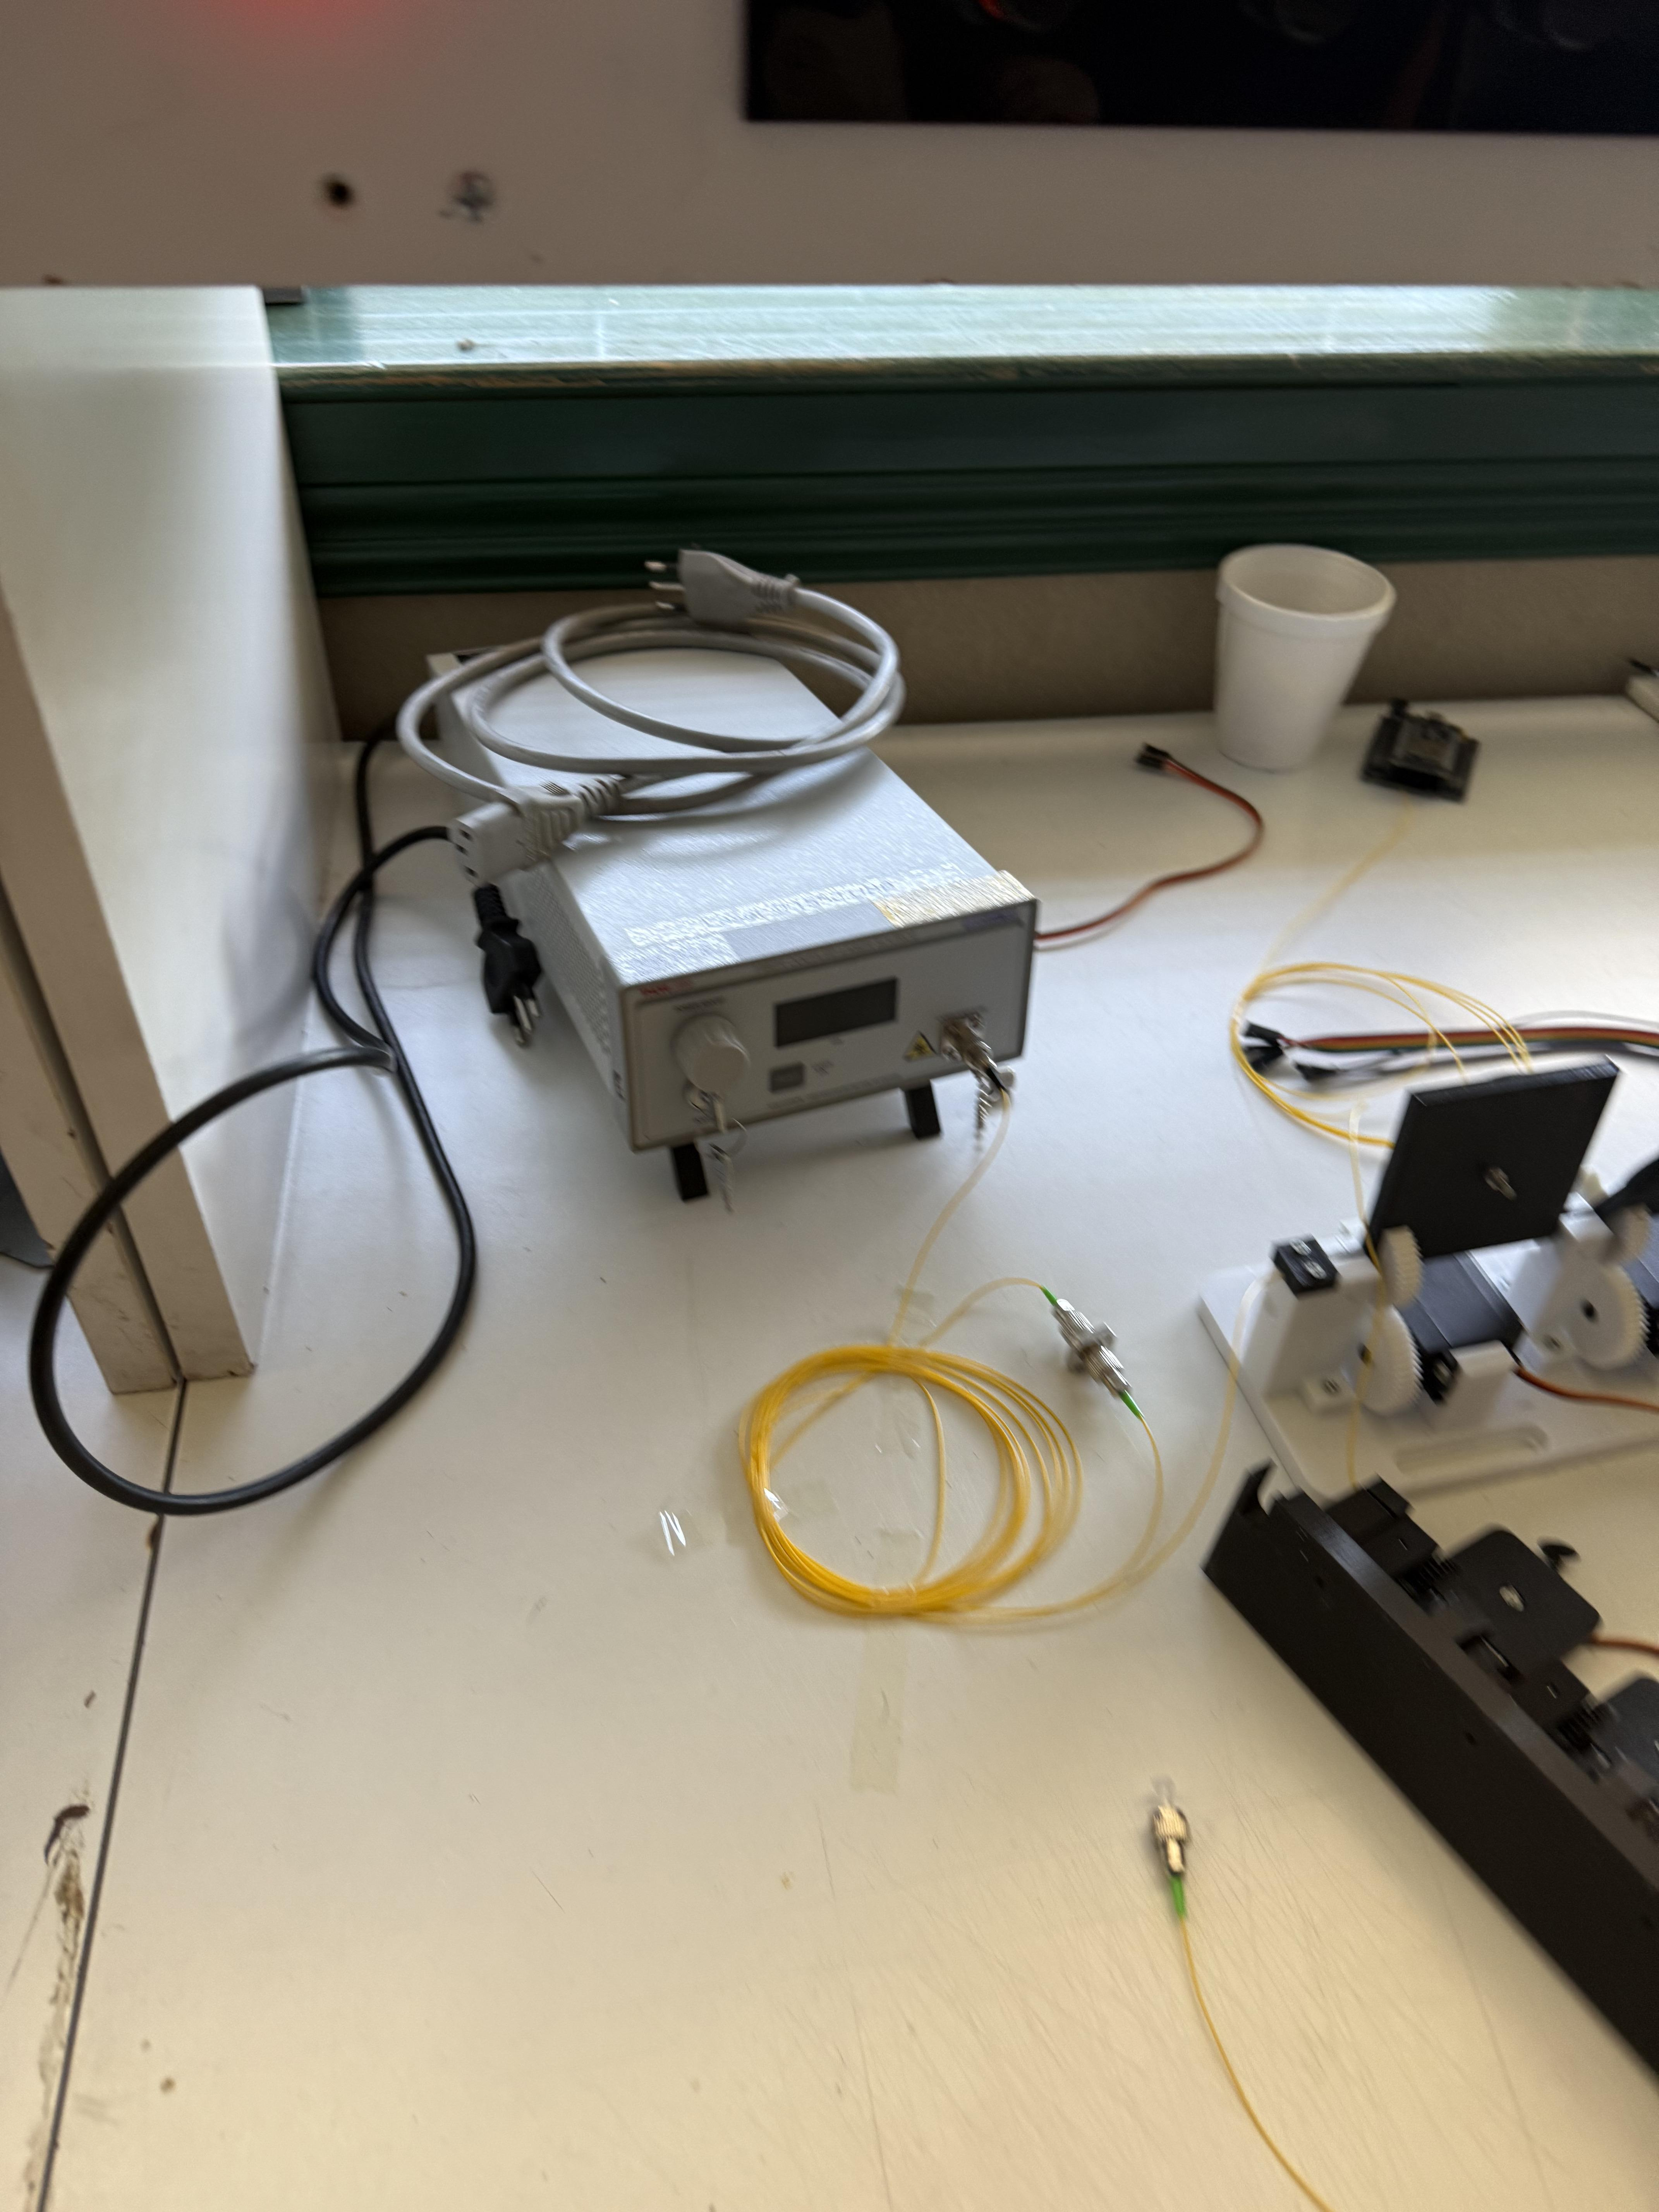laser: (387, 507, 1065, 1251)
paddle_polarization_controller: (1143, 1425, 1659, 2134), (1162, 984, 1657, 1541)
